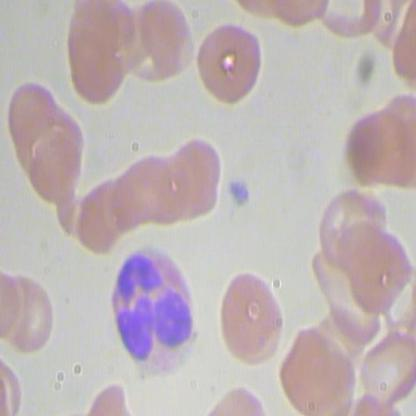Platelets: (226, 178, 254, 210)
RBC: (278, 319, 359, 415), (215, 269, 292, 362), (194, 19, 270, 113), (344, 226, 416, 322), (132, 1, 196, 91), (66, 35, 128, 106), (29, 129, 87, 203), (6, 275, 61, 352), (7, 77, 61, 154), (69, 180, 123, 257), (342, 107, 396, 184), (171, 130, 225, 200)
WBC: (102, 244, 201, 377)
